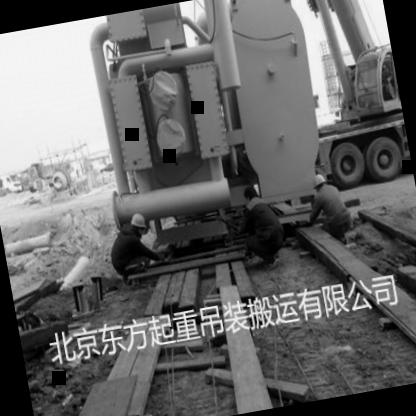head: (241, 181, 260, 205)
helmet: (126, 211, 149, 238), (308, 170, 327, 196)
